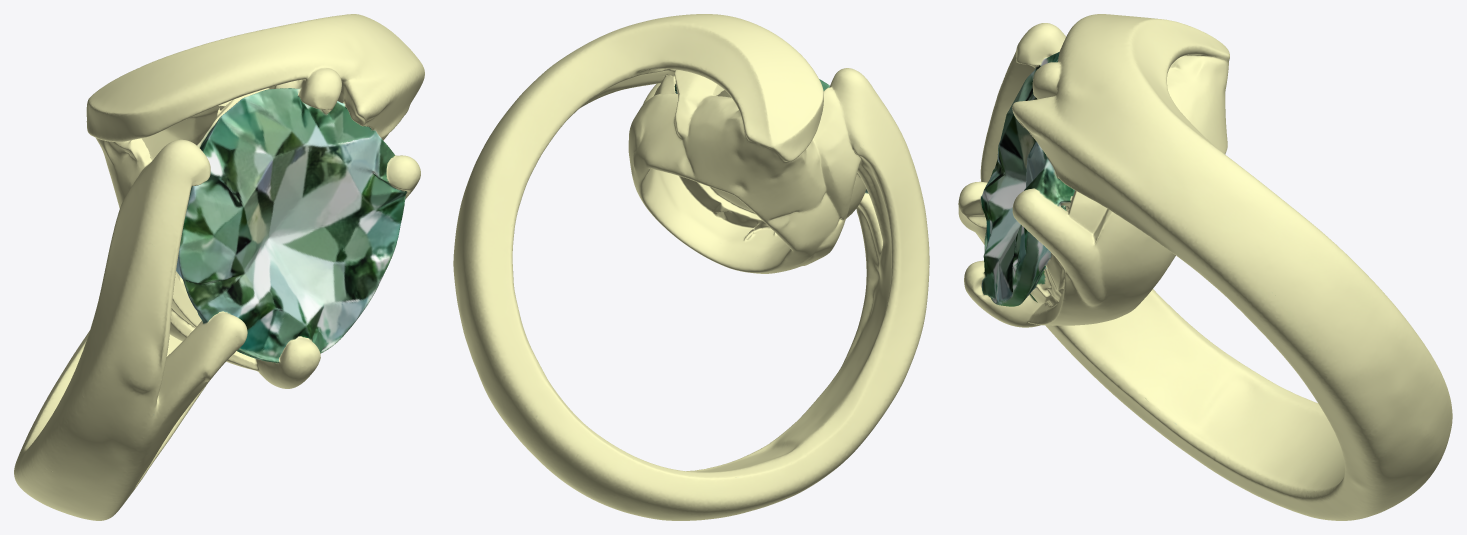
The picture shows the model from 3 angles, left to right: view 1: azimuth 30°, elevation 25°; view 2: azimuth 150°, elevation 25°; view 3: azimuth 270°, elevation 25°; orthographic projection. The views are drawn at different scales.
Size of the model in its own units: 0.8068 by 0.889 by 0.7951.
1 material, 1 textured.
